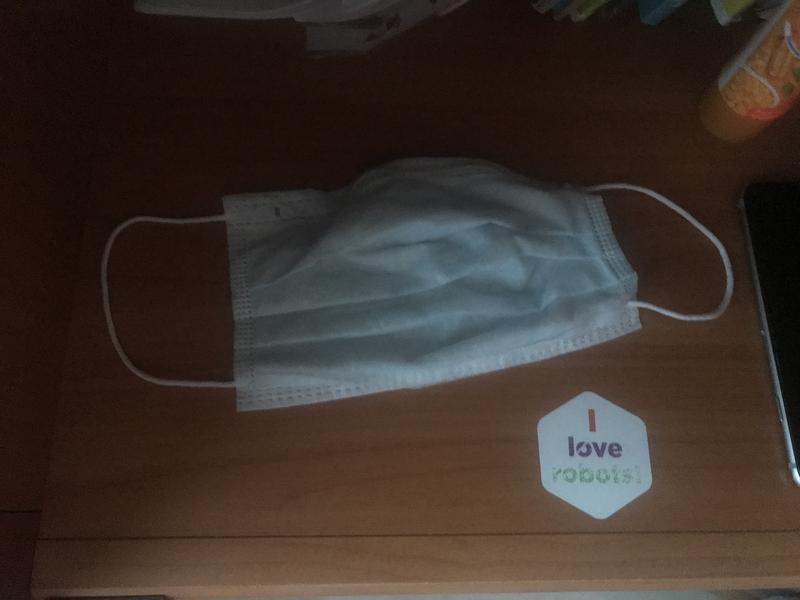medical_mask: (99, 156, 732, 408)
